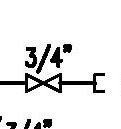valve: (24, 43, 62, 92)
